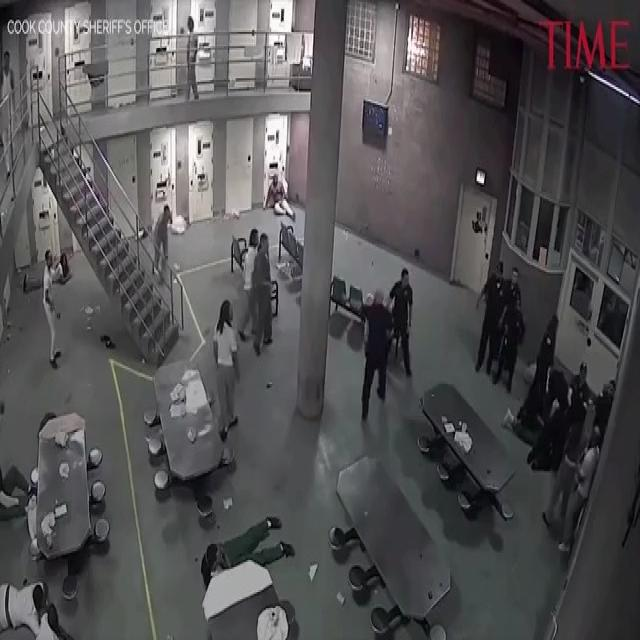fight: (235, 227, 277, 362)
